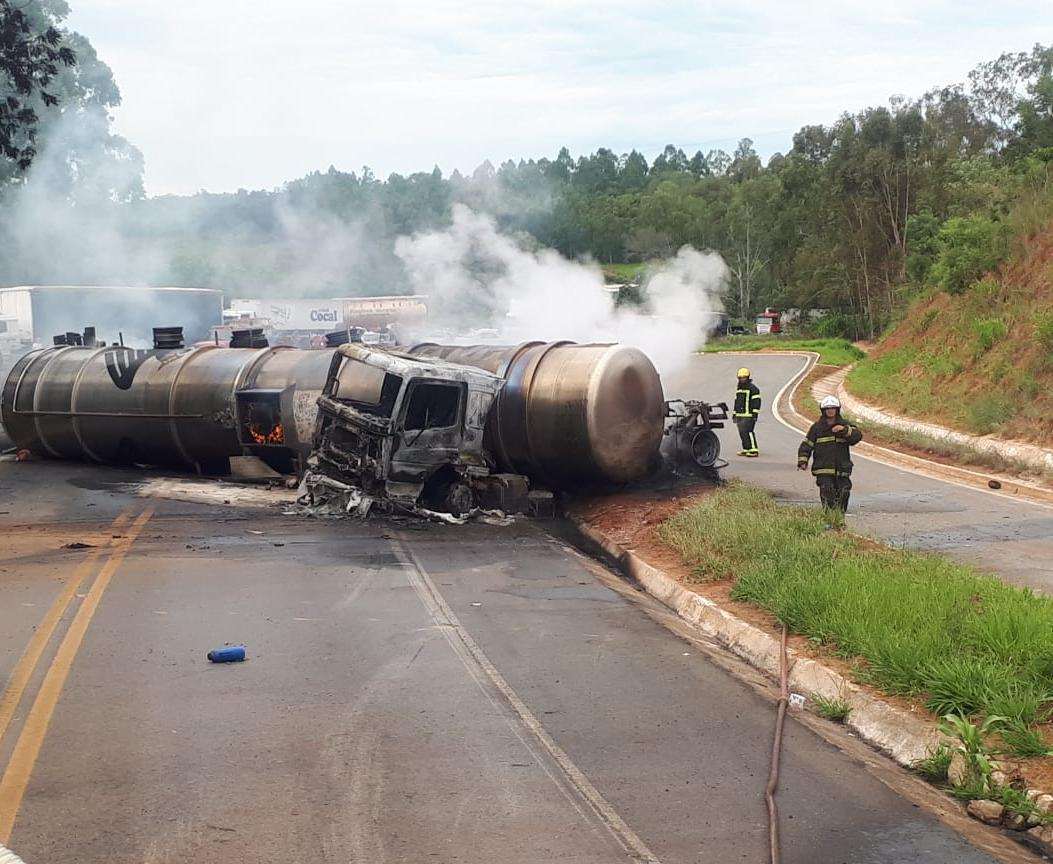smoke: (448, 268, 694, 344)
